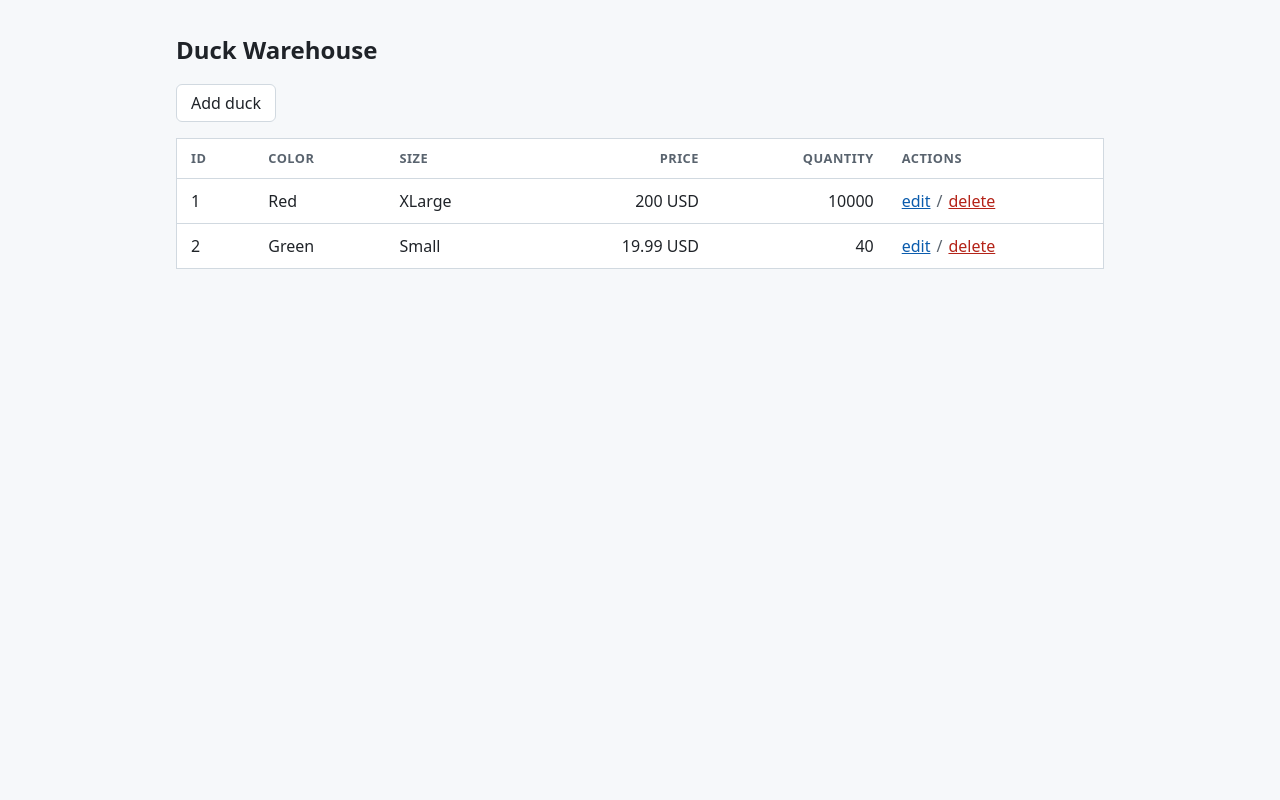
Test: WarehousePage › deleting a duck › does nothing when the user cancels
The image size is (1280, 800).
What coordinates should you click on to do the following:
click the button with aria-label "Delete duck 1"
I would click on:
 (972, 201)
Its box is [948, 189, 995, 213].
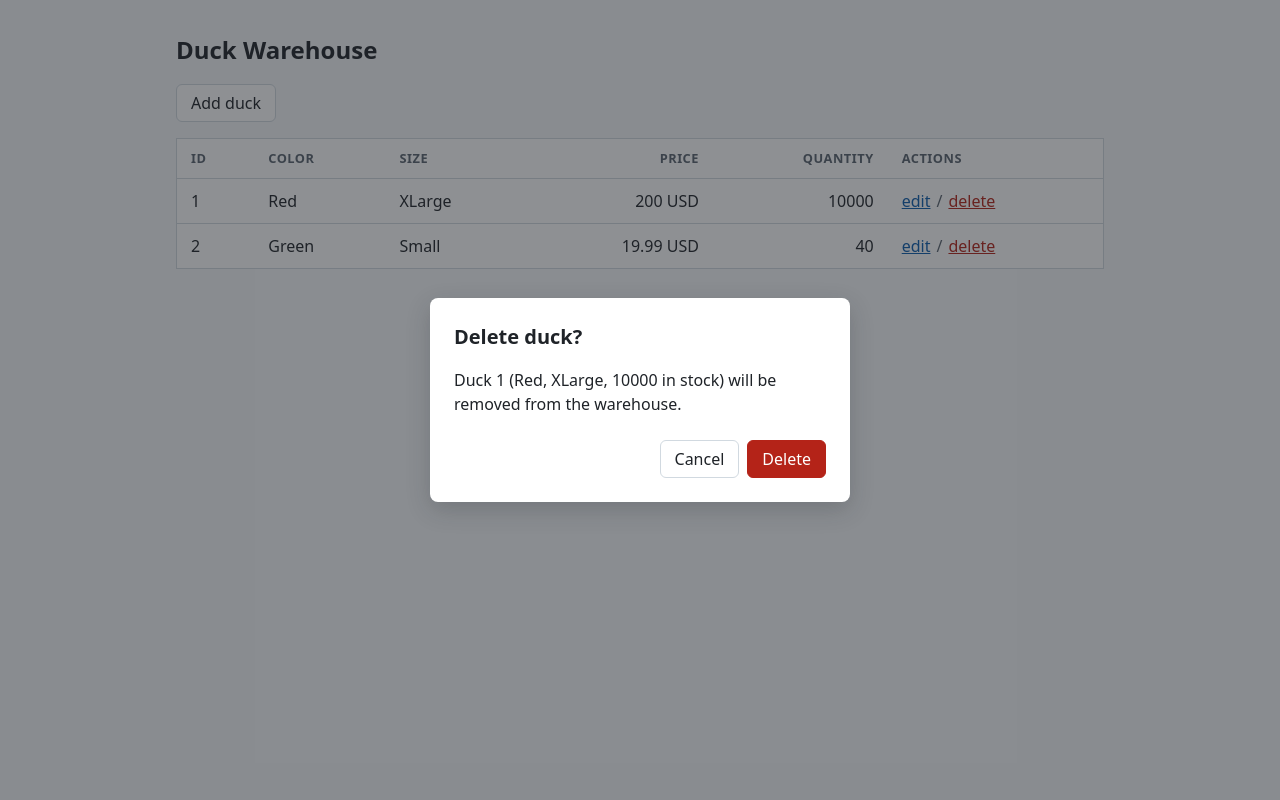
What coordinates should you click on to do the following:
click the button "Cancel"
I would click on:
 (699, 459)
Its box is [660, 440, 739, 478].
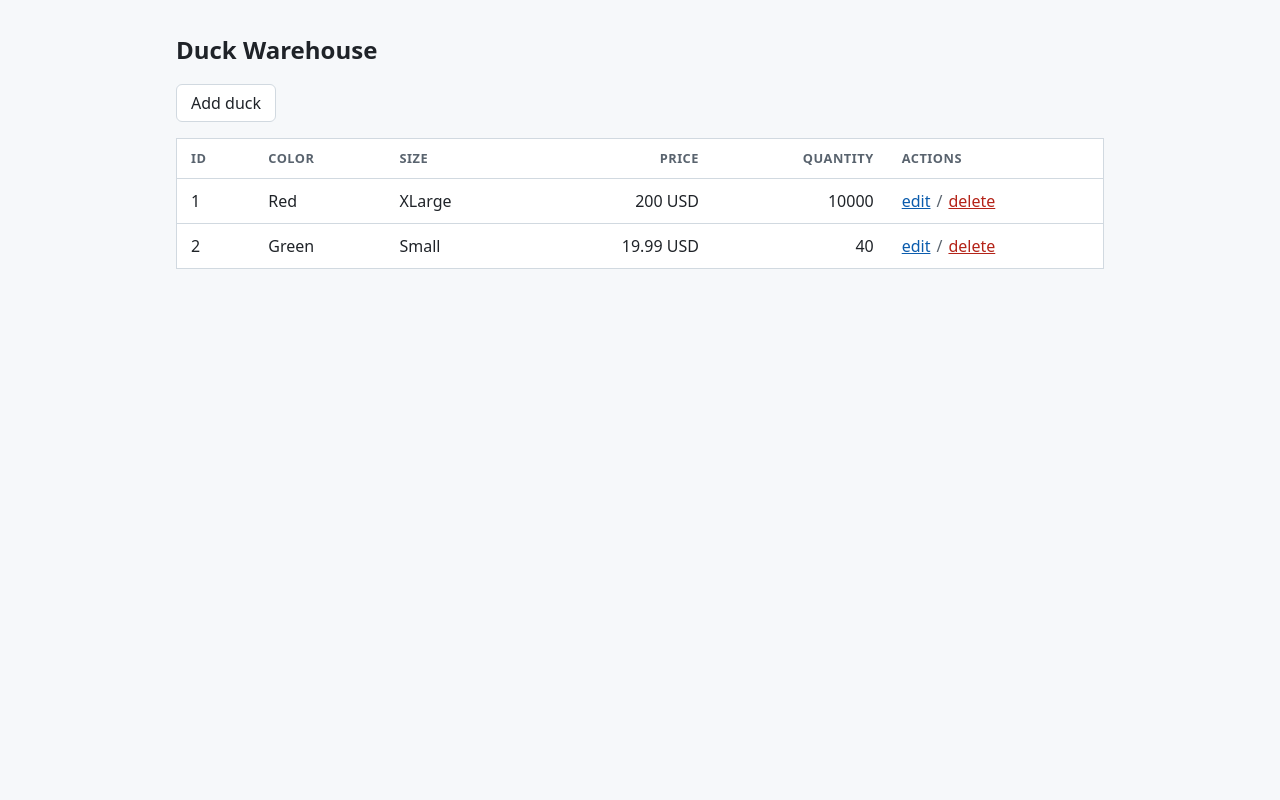
Now the dialog is gone
